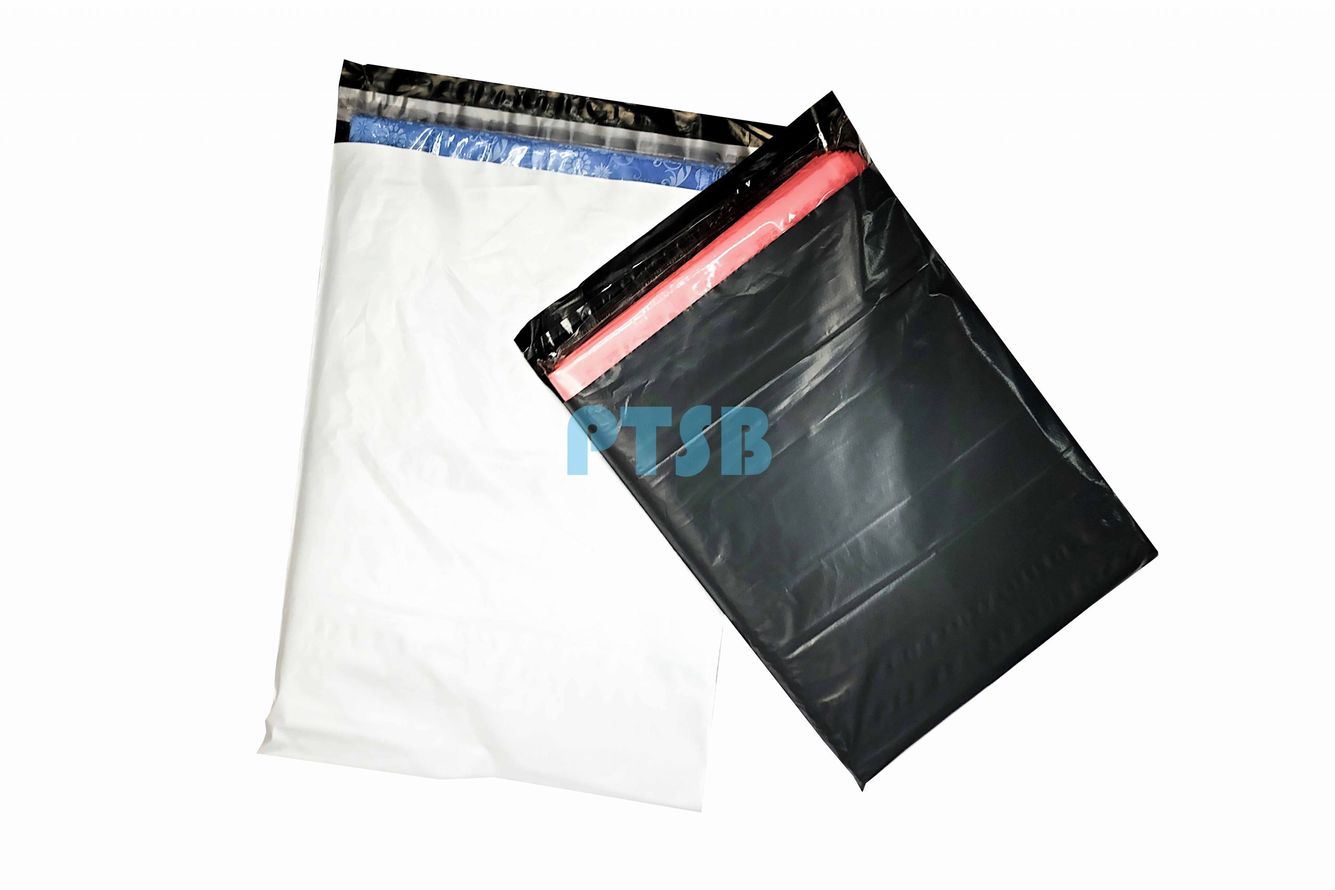塑料袋: (516, 92, 1156, 784), (266, 66, 780, 813)
